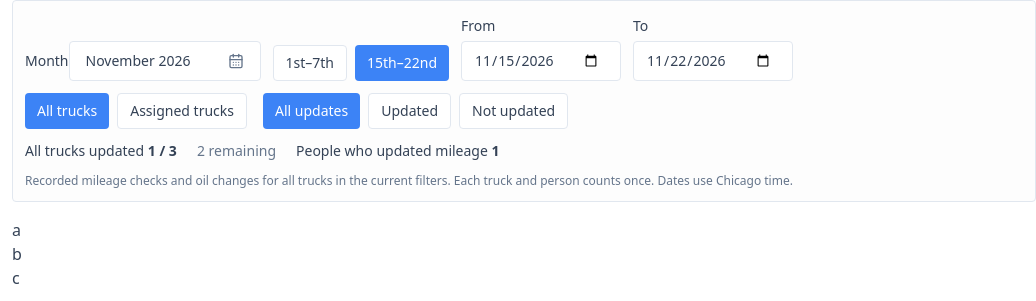
shows invalid dates instead of querying a reversed range
expect the message shows "All trucks updated": met, box [25,141,144,160]
Type "2020-01-01" into the date field labelled "To" at (713,61), box [633,41,793,81]
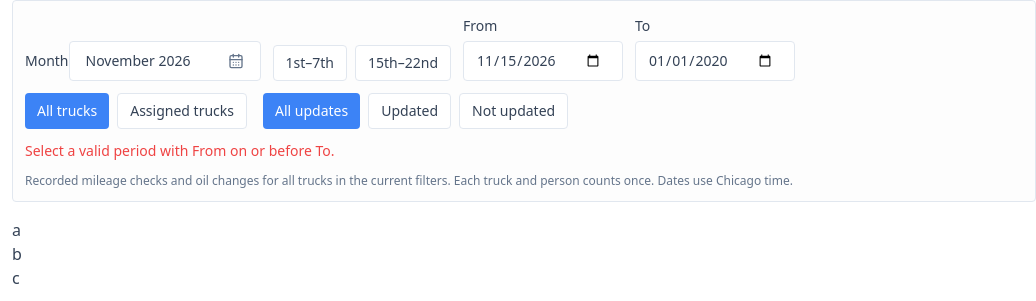
expect the message shows "Select a valid period": met, box [25,141,334,160]
